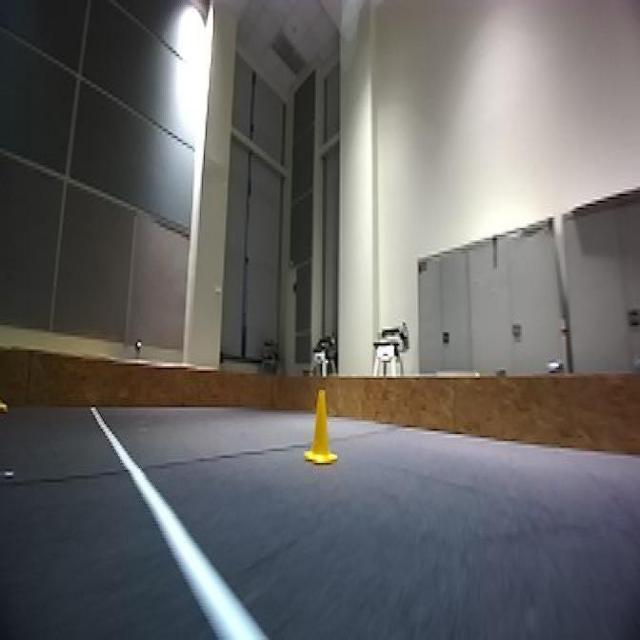frc_cone: (307, 392, 342, 466)
